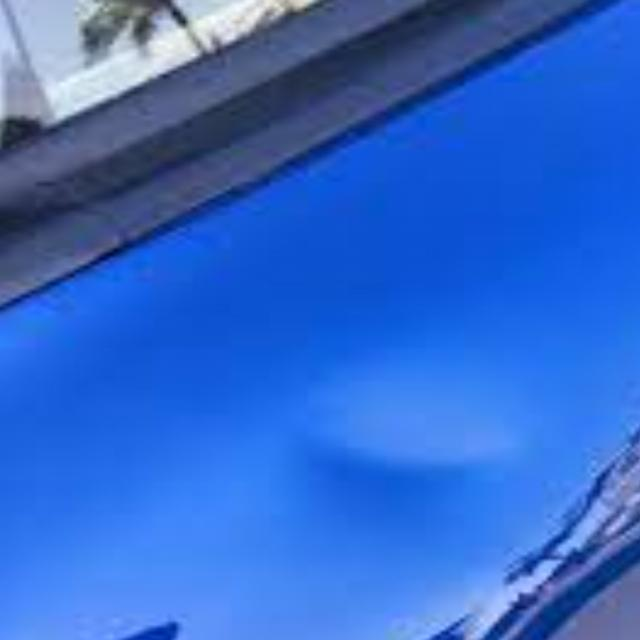dents: (250, 372, 530, 520)
